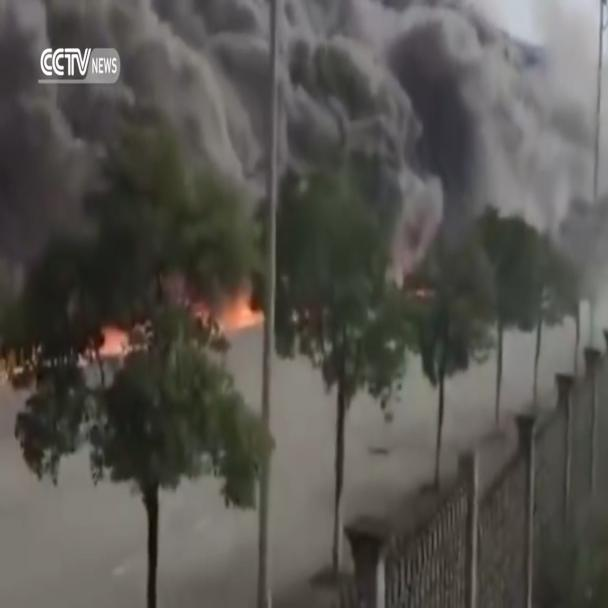Fire: (0, 73, 275, 405)
smoke: (297, 1, 604, 363)
